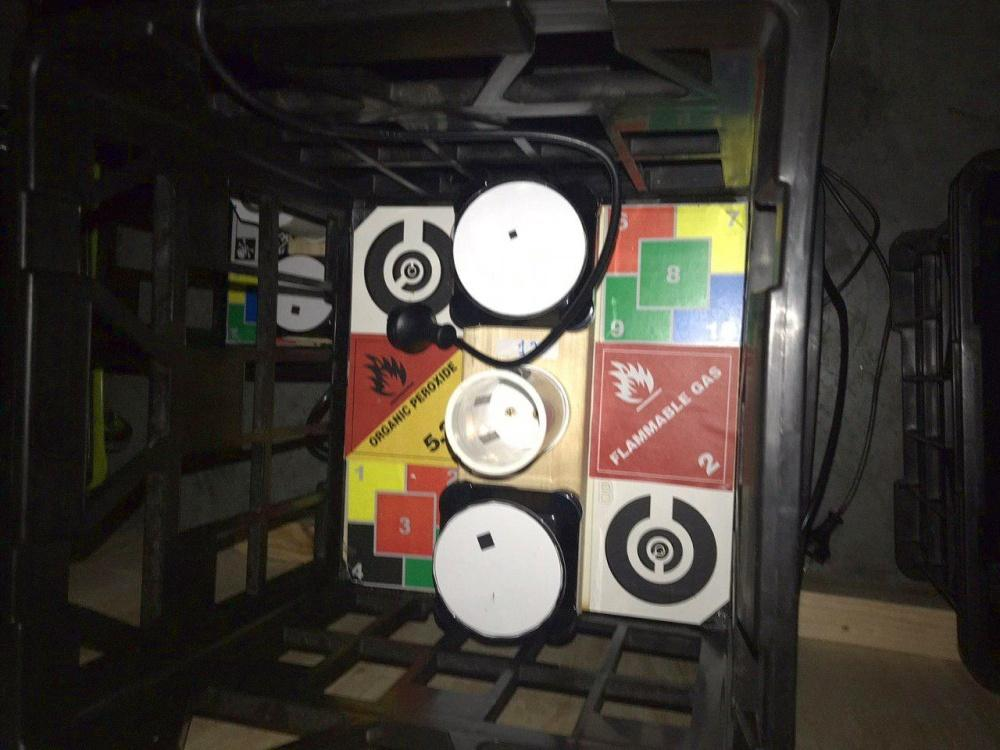flammable: (588, 342, 743, 492)
organic-peroxide: (343, 331, 470, 469)
